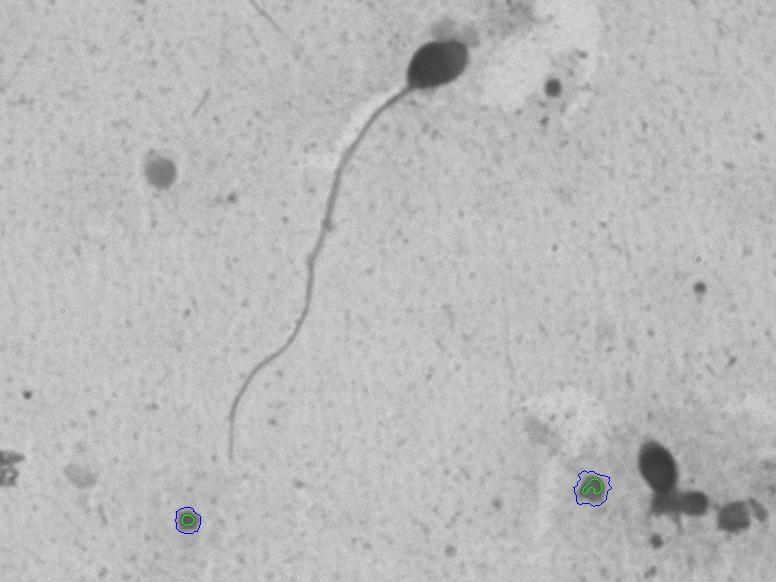Abnormal: (163, 28, 493, 461)
